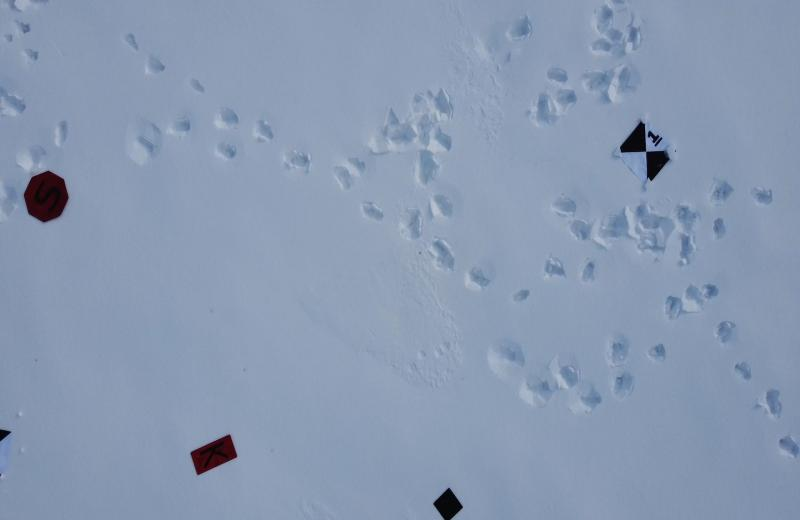Octagon: (21, 169, 69, 224)
Rectangle: (190, 434, 238, 476)
Square: (433, 485, 464, 520)
